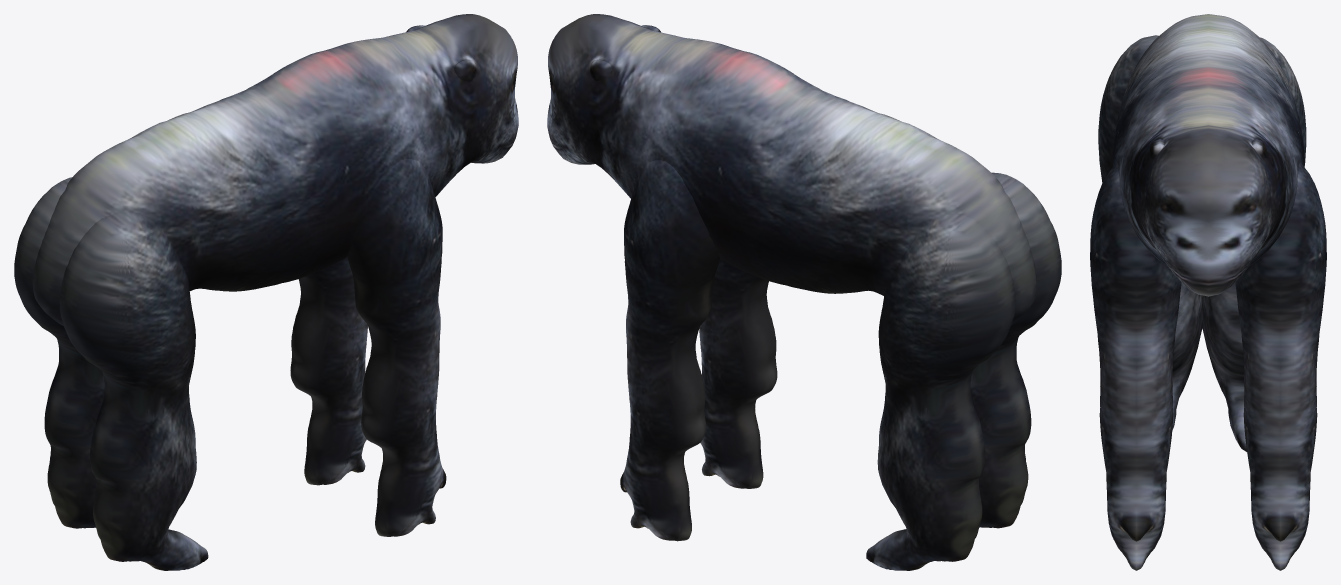
The model's file is bonobo.glb.
3 renders of one model, left to right at view 1: azimuth 30°, elevation 25°; view 2: azimuth 150°, elevation 25°; view 3: azimuth 270°, elevation 25°, orthographic.
Parts seen in each view (by area): view 1: mm_frame (17); view 2: mm_frame (17); view 3: mm_frame (17).
Part boxes in pixels (x1,y1,x2,y2): mm_frame (17): [14, 14, 518, 570]; mm_frame (17): [547, 14, 1061, 570]; mm_frame (17): [1090, 14, 1326, 570].
Size of the model in its own units: 5.5 by 5.14 by 2.33.
Materials: 1 (1 with a texture image).
